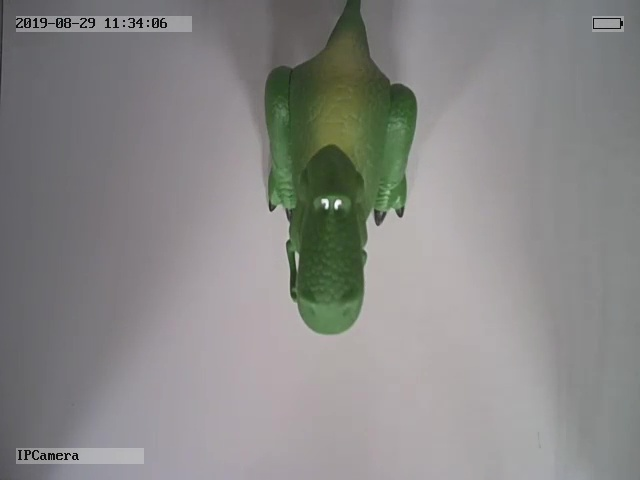rex: (262, 2, 420, 337)
